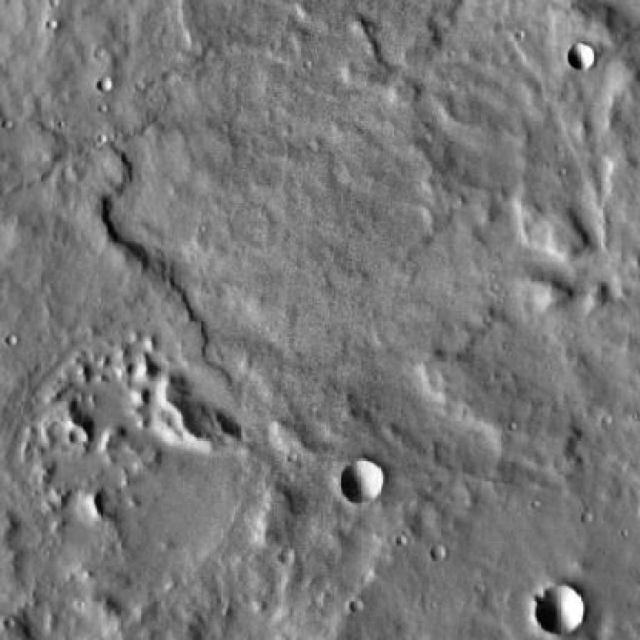crater: (540, 586, 591, 634), (340, 458, 386, 504), (567, 43, 596, 72), (430, 546, 447, 563), (95, 79, 110, 95)
